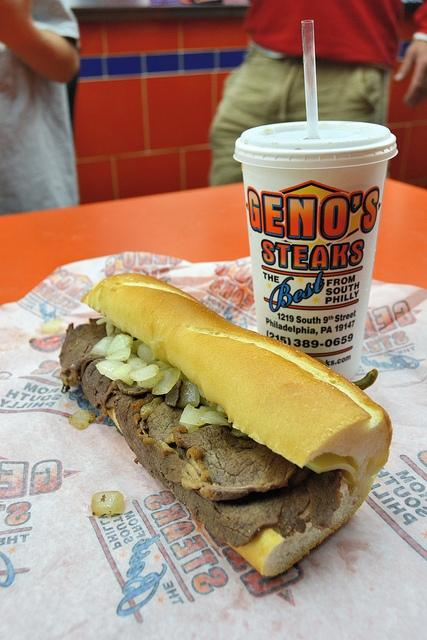onion: (90, 490, 124, 516), (152, 368, 180, 395), (95, 359, 125, 382), (176, 381, 200, 409), (105, 334, 134, 356), (180, 404, 208, 426), (128, 364, 160, 381), (68, 410, 96, 429), (200, 412, 233, 428), (89, 337, 114, 358), (136, 370, 164, 388), (137, 342, 155, 366), (105, 348, 131, 362), (42, 320, 62, 333), (127, 358, 147, 370), (130, 339, 144, 354), (155, 360, 174, 371), (206, 400, 218, 410), (106, 322, 114, 336)
